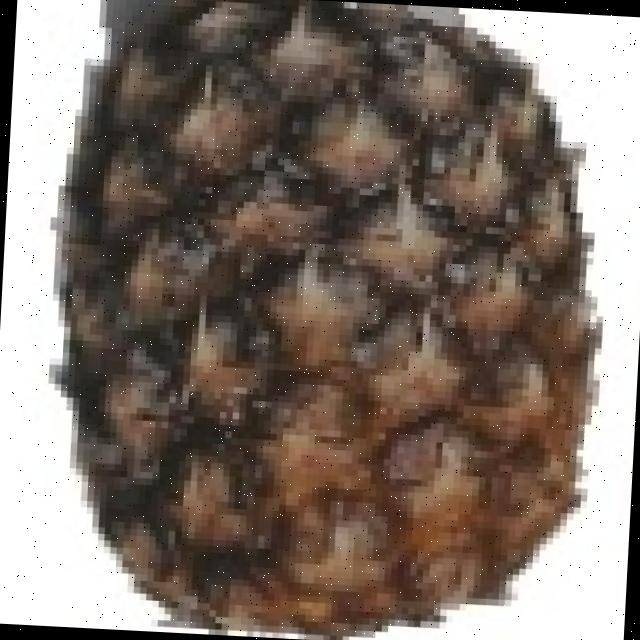pineapple: (60, 0, 596, 640)
